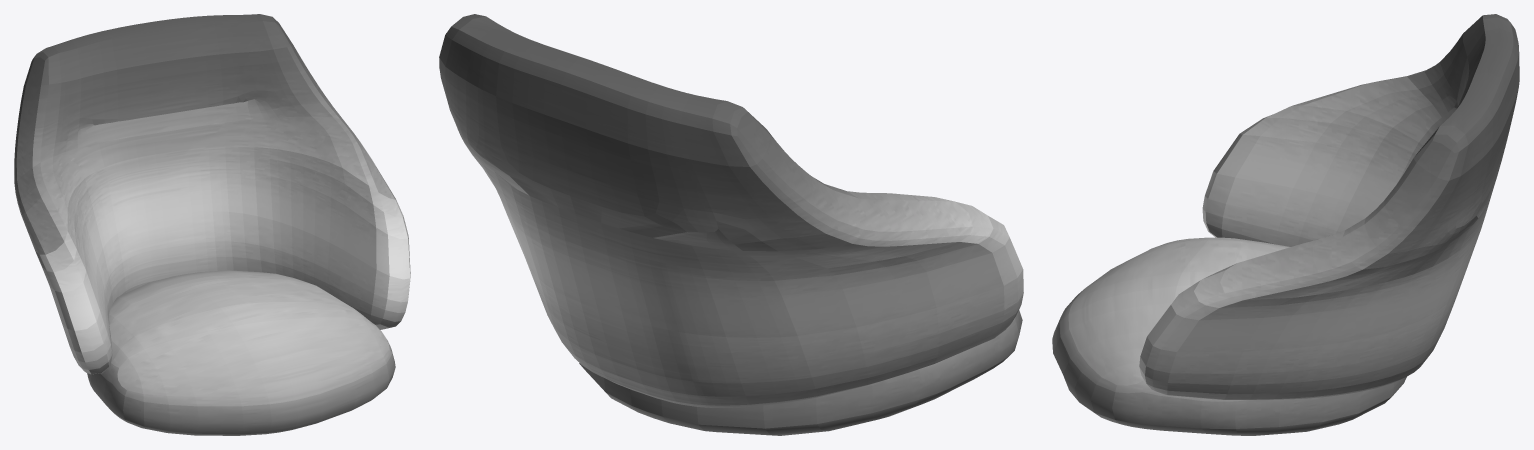
File: silla.fbx
The picture shows the model from 3 angles, left to right: view 1: azimuth 30°, elevation 25°; view 2: azimuth 150°, elevation 25°; view 3: azimuth 270°, elevation 25°; orthographic projection. The views are drawn at different scales.
Parts seen in each view (by area): view 1: polySurface4; view 2: polySurface4; view 3: polySurface4.
Boxes of the visible parts, bbox=[...] form: polySurface4: bbox=[14, 14, 410, 435]; polySurface4: bbox=[439, 14, 1023, 435]; polySurface4: bbox=[1052, 14, 1519, 435].
Bounding box in the file's own units: 19.45 × 15.64 × 19.98.
2 materials, 2 textured.
